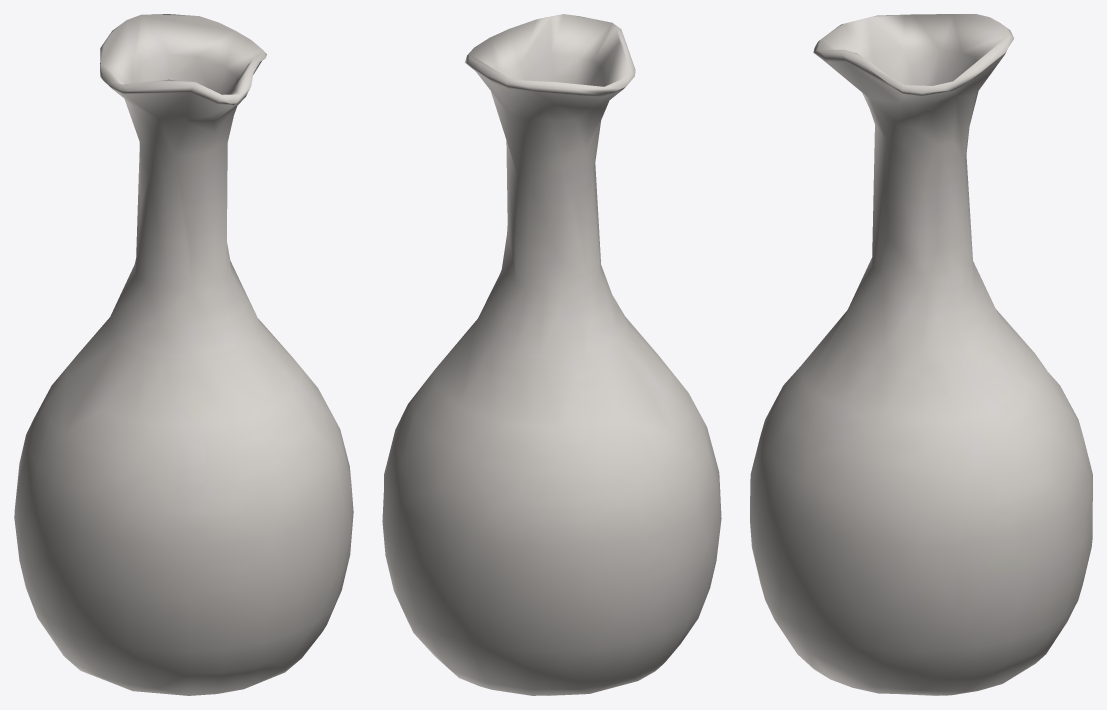
The model's file is ceramic_vase_01.glb.
The picture shows the model from 3 angles, left to right: view 1: azimuth 30°, elevation 25°; view 2: azimuth 150°, elevation 25°; view 3: azimuth 270°, elevation 25°; orthographic projection.
Parts seen in each view (by area): view 1: ceramic_vase_01; view 2: ceramic_vase_01; view 3: ceramic_vase_01.
Part boxes in pixels (<box>): ceramic_vase_01: <box>14,14,353,695</box>; ceramic_vase_01: <box>382,14,721,695</box>; ceramic_vase_01: <box>750,14,1092,695</box>.
Size of the model in its own units: 0.2021 by 0.4002 by 0.2018.
1 material, 1 textured.
